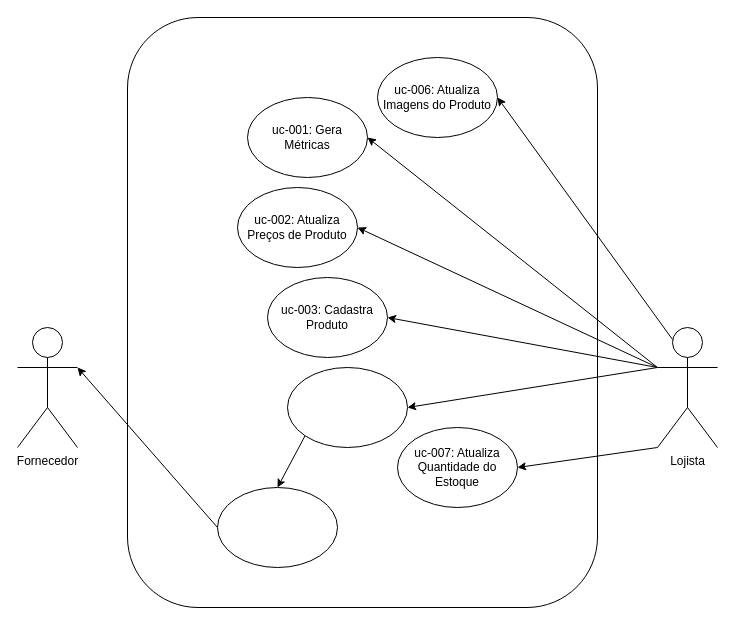
Image size: 735x625. Some labels were removed from this diagram. The shapes that lost their labels are listed below. From the top down, each one's centre as x and y in pixels, then its label:
At pixel 347 407: "uc-004: Realiza Pedido".
At pixel 277 527: "uc-005: Notifica Fornecedor".
